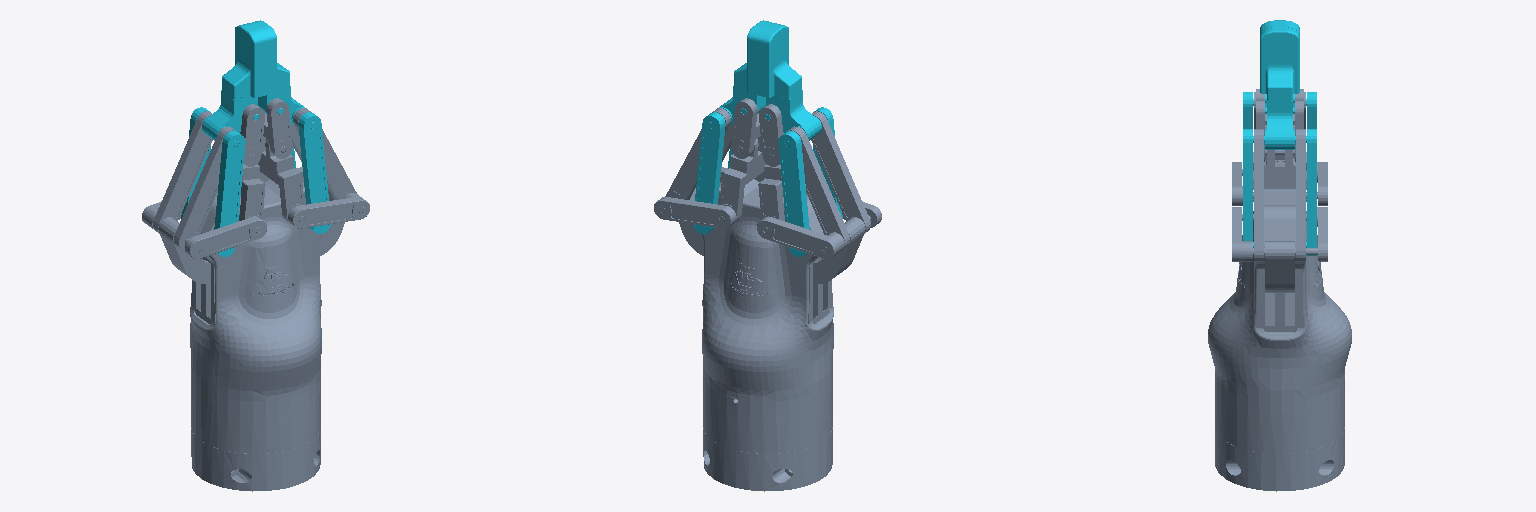
URDF robot description (rdt_gripper):
<?xml version="1.0" encoding="utf-8"?>
<robot name="rdt_gripper">
  <material name="shell">
    <color rgba="0.58 0.64 0.72 1" />
  </material>
  <!-- The jaw chain carries the finger colour; TacCapGripperModel tints it
       per side after load, so a gripper reads as the same object as its
       trajectory trail. One file serves both arms, so the tint cannot be
       baked in the way the per-side TacCap URDFs bake theirs. -->
  <material name="finger">
    <color rgba="0.20 0.83 0.94 1" />
  </material>

  <link name="base_link">
    <visual>
      <geometry><mesh filename="meshes/base_link.STL" /></geometry>
      <material name="shell" />
    </visual>
  </link>

  <link name="R2_Link">
    <visual>
      <geometry><mesh filename="meshes/R2_Link.STL" /></geometry>
      <material name="finger" />
    </visual>
  </link>
  <joint name="R2" type="revolute">
    <origin xyz="0.031809 0 0.15424" rpy="1.5708 0 0" />
    <parent link="base_link" />
    <child link="R2_Link" />
    <axis xyz="0 0 -1" />
    <limit lower="0" upper="0.7" effort="1" velocity="1" />
  </joint>

  <link name="Right_in_Link">
    <visual>
      <geometry><mesh filename="meshes/Right_in_Link.STL" /></geometry>
      <material name="finger" />
    </visual>
  </link>
  <joint name="Right_in" type="revolute">
    <origin xyz="-0.006488 0.064675 0" rpy="0 0 0" />
    <parent link="R2_Link" />
    <child link="Right_in_Link" />
    <axis xyz="0 0 1" />
    <limit lower="0" upper="0" effort="1" velocity="1" />
    <mimic joint="R2" multiplier="1" offset="0" />
  </joint>

  <link name="Right_Pad_Link">
    <visual>
      <geometry><mesh filename="meshes/Right_Pad_Link.STL" /></geometry>
      <material name="finger" />
    </visual>
  </link>
  <joint name="Right_Pad" type="fixed">
    <origin xyz="-0.024321 0.03825 0" rpy="0 0 0" />
    <parent link="Right_in_Link" />
    <child link="Right_Pad_Link" />
  </joint>

  <link name="R3_Link">
    <visual>
      <geometry><mesh filename="meshes/R3_Link.STL" /></geometry>
      <material name="shell" />
    </visual>
  </link>
  <joint name="R3" type="revolute">
    <origin xyz="0.014489 0 0.16424" rpy="1.5708 0 0" />
    <parent link="base_link" />
    <child link="R3_Link" />
    <axis xyz="0 0 -1" />
    <limit lower="0" upper="0" effort="1" velocity="1" />
    <mimic joint="R2" multiplier="1" offset="0" />
  </joint>

  <link name="Right_Main_Link">
    <visual>
      <geometry><mesh filename="meshes/Right_Main_Link.STL" /></geometry>
      <material name="shell" />
    </visual>
  </link>
  <joint name="Right_Main" type="revolute">
    <origin xyz="0.014489 0 0.16424" rpy="1.5708 0 0" />
    <parent link="base_link" />
    <child link="Right_Main_Link" />
    <axis xyz="0 0 -1" />
    <limit lower="0" upper="0" effort="1" velocity="1" />
    <mimic joint="R2" multiplier="1" offset="0" />
  </joint>

  <link name="R1_Link">
    <visual>
      <geometry><mesh filename="meshes/R1_Link.STL" /></geometry>
      <material name="shell" />
    </visual>
  </link>
  <joint name="R1" type="revolute">
    <origin xyz="0.039847 -0.0034894 0" rpy="0 0 0" />
    <parent link="Right_Main_Link" />
    <child link="R1_Link" />
    <axis xyz="0 0 1" />
    <limit lower="0" upper="0" effort="1" velocity="1" />
    <mimic joint="R2" multiplier="-0.15" offset="0" />
  </joint>

  <link name="Right_Slip_Link">
    <visual>
      <geometry><mesh filename="meshes/Right_Slip_Link.STL" /></geometry>
      <material name="shell" />
    </visual>
  </link>
  <joint name="Right_Slip" type="revolute">
    <origin xyz="0.039847 -0.0034894 0" rpy="0 0 0" />
    <parent link="Right_Main_Link" />
    <child link="Right_Slip_Link" />
    <axis xyz="0 0 1" />
    <limit lower="0" upper="0" effort="1" velocity="1" />
    <mimic joint="R2" multiplier="1" offset="0" />
  </joint>

  <link name="L2_Link">
    <visual>
      <geometry><mesh filename="meshes/L2_Link.STL" /></geometry>
      <material name="finger" />
    </visual>
  </link>
  <joint name="L2" type="revolute">
    <origin xyz="-0.031808 0 0.15424" rpy="1.5708 0 -3.1416" />
    <parent link="base_link" />
    <child link="L2_Link" />
    <axis xyz="0 0 -1" />
    <limit lower="-1" upper="1" effort="1" velocity="1" />
    <mimic joint="R2" multiplier="1" offset="0" />
  </joint>

  <link name="Left_in_Link">
    <visual>
      <geometry><mesh filename="meshes/Left_in_Link.STL" /></geometry>
      <material name="finger" />
    </visual>
  </link>
  <joint name="Left_in" type="revolute">
    <origin xyz="-0.0064872 0.064675 0" rpy="0 0 0" />
    <parent link="L2_Link" />
    <child link="Left_in_Link" />
    <axis xyz="0 0 1" />
    <limit lower="0" upper="0" effort="1" velocity="1" />
    <mimic joint="L2" multiplier="1" offset="0" />
  </joint>

  <link name="Left_Pad_Link">
    <visual>
      <geometry><mesh filename="meshes/Left_Pad_Link.STL" /></geometry>
      <material name="finger" />
    </visual>
  </link>
  <joint name="Left_Pad" type="fixed">
    <origin xyz="-0.024321 0.03825 0" rpy="0 0 0" />
    <parent link="Left_in_Link" />
    <child link="Left_Pad_Link" />
  </joint>

  <link name="L3_Link">
    <visual>
      <geometry><mesh filename="meshes/L3_Link.STL" /></geometry>
      <material name="shell" />
    </visual>
  </link>
  <joint name="L3" type="revolute">
    <origin xyz="-0.014488 0 0.16424" rpy="1.5708 0 -3.1416" />
    <parent link="base_link" />
    <child link="L3_Link" />
    <axis xyz="0 0 1" />
    <limit lower="0" upper="0" effort="1" velocity="1" />
    <mimic joint="R3" multiplier="-1" offset="0" />
  </joint>

  <link name="Left_Main_Link">
    <visual>
      <geometry><mesh filename="meshes/Left_Main_Link.STL" /></geometry>
      <material name="shell" />
    </visual>
  </link>
  <joint name="Left_Main" type="revolute">
    <origin xyz="-0.014488 0 0.16424" rpy="1.5708 0 -3.1416" />
    <parent link="base_link" />
    <child link="Left_Main_Link" />
    <axis xyz="0 0 1" />
    <limit lower="0" upper="0" effort="1" velocity="1" />
    <mimic joint="Right_Main" multiplier="-1" offset="0" />
  </joint>

  <link name="L1_Link">
    <visual>
      <geometry><mesh filename="meshes/L1_Link.STL" /></geometry>
      <material name="shell" />
    </visual>
  </link>
  <joint name="L1" type="revolute">
    <origin xyz="0.039848 -0.0034894 0" rpy="0 0 0" />
    <parent link="Left_Main_Link" />
    <child link="L1_Link" />
    <axis xyz="0 0 1" />
    <limit lower="0" upper="0" effort="1" velocity="1" />
    <mimic joint="R1" multiplier="1" offset="0" />
  </joint>

  <link name="Left_Slip_Link">
    <visual>
      <geometry><mesh filename="meshes/Left_Slip_Link.STL" /></geometry>
      <material name="shell" />
    </visual>
  </link>
  <joint name="Left_Slip" type="revolute">
    <origin xyz="0.039848 -0.0034894 0" rpy="0 0 0" />
    <parent link="Left_Main_Link" />
    <child link="Left_Slip_Link" />
    <axis xyz="0 0 1" />
    <limit lower="0" upper="0" effort="1" velocity="1" />
    <mimic joint="L2" multiplier="1" offset="0" />
  </joint>
</robot>

--- Render facts (derived) ---
3 views of the same robot in one strip: view 1: azimuth 30°, elevation 25°; view 2: azimuth 150°, elevation 25°; view 3: azimuth 270°, elevation 25° (orthographic).
Model rdt_gripper with 15 links and 14 joints (12 revolute, 2 fixed), rooted at base_link, posed all joints at 0.
Links seen in each view (by area): view 1: base_link, L1_Link, Left_in_Link, R3_Link, L2_Link, L3_Link, R2_Link, Left_Main_Link, Right_Main_Link, Right_in_Link, Left_Slip_Link, R1_Link; view 2: base_link, L1_Link, Left_in_Link, R3_Link, L2_Link, L3_Link, Left_Main_Link, R2_Link, Right_Main_Link, Right_in_Link, R1_Link, Left_Slip_Link; view 3: base_link, Right_in_Link, R1_Link, R2_Link, R3_Link, Right_Slip_Link, Right_Main_Link, Left_Main_Link, L2_Link.
Link boxes in pixels (<box>): base_link: <box>190,179,321,491</box>; L1_Link: <box>153,111,235,250</box>; Left_in_Link: <box>202,24,262,146</box>; R3_Link: <box>258,98,304,221</box>; L2_Link: <box>181,107,245,256</box>; L3_Link: <box>239,104,265,232</box>; R2_Link: <box>291,112,330,233</box>; Left_Main_Link: <box>142,201,266,258</box>; Right_Main_Link: <box>288,167,369,228</box>; Right_in_Link: <box>254,20,314,128</box>; Left_Slip_Link: <box>158,217,210,283</box>; R1_Link: <box>291,97,356,199</box>; base_link: <box>702,179,833,491</box>; L1_Link: <box>788,111,870,247</box>; Left_in_Link: <box>761,24,821,146</box>; R3_Link: <box>719,98,765,221</box>; L2_Link: <box>778,107,842,256</box>; L3_Link: <box>758,104,784,232</box>; Left_Main_Link: <box>757,201,881,258</box>; R2_Link: <box>693,112,732,233</box>; Right_Main_Link: <box>654,167,741,228</box>; Right_in_Link: <box>709,20,769,128</box>; R1_Link: <box>665,97,732,199</box>; Left_Slip_Link: <box>813,215,870,283</box>; base_link: <box>1208,189,1351,491</box>; Right_in_Link: <box>1253,27,1306,149</box>; R1_Link: <box>1254,129,1305,261</box>; R2_Link: <box>1243,129,1316,255</box>; R3_Link: <box>1242,100,1306,220</box>; Right_Slip_Link: <box>1253,241,1317,292</box>; Right_Main_Link: <box>1232,207,1327,261</box>; Left_Main_Link: <box>1232,162,1327,205</box>; L2_Link: <box>1243,92,1316,201</box>.
Size in the robot's own frame: 0.1207 by 0.0835 by 0.2794 metres.
15 mesh visuals loaded from 15 distinct referenced files (15 binary STL).
